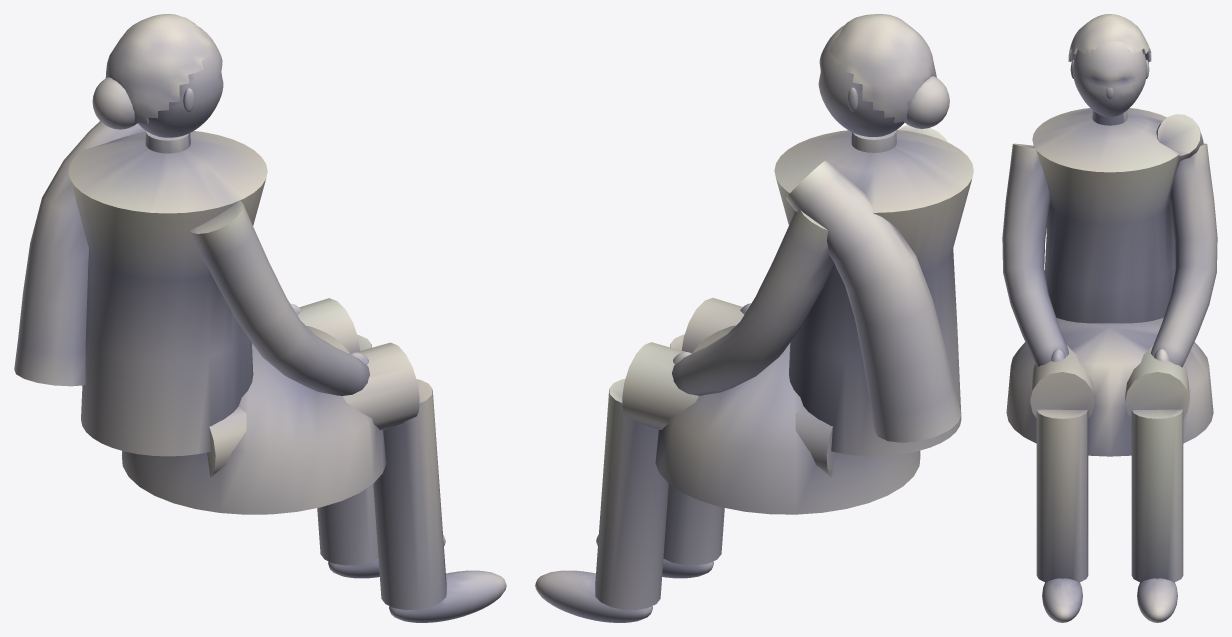
File: mrs-ghatak.glb
The picture shows the model from 3 angles, left to right: view 1: azimuth 30°, elevation 25°; view 2: azimuth 150°, elevation 25°; view 3: azimuth 270°, elevation 25°; orthographic projection. The views are drawn at different scales.
Parts seen in each view (by area): view 1: body; view 2: body; view 3: body.
Boxes of the visible parts, <box> form: body: <box>14,14,506,622</box>; body: <box>535,14,973,622</box>; body: <box>1002,14,1217,622</box>.
Bounding box in the file's own units: 0.878 × 1.27 × 0.4987.
